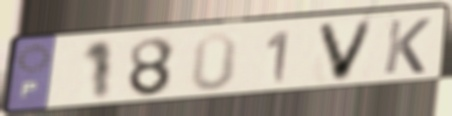0: (187, 30, 241, 93)
1: (79, 37, 113, 104), (264, 29, 290, 85)
8: (127, 36, 176, 98)
K: (381, 16, 434, 76)
V: (314, 17, 379, 84)
